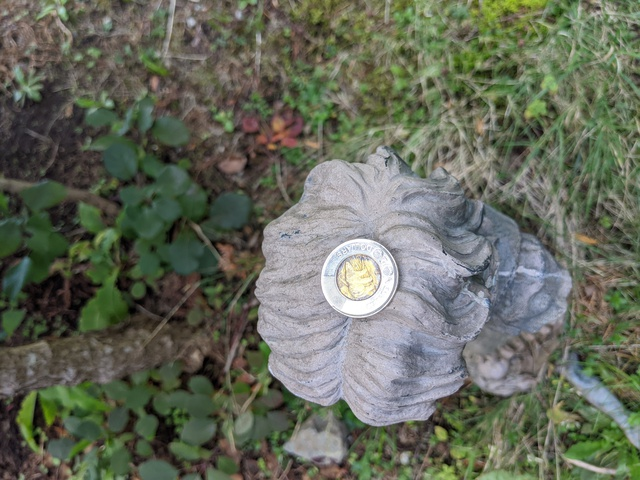twonie: (320, 234, 399, 317)
